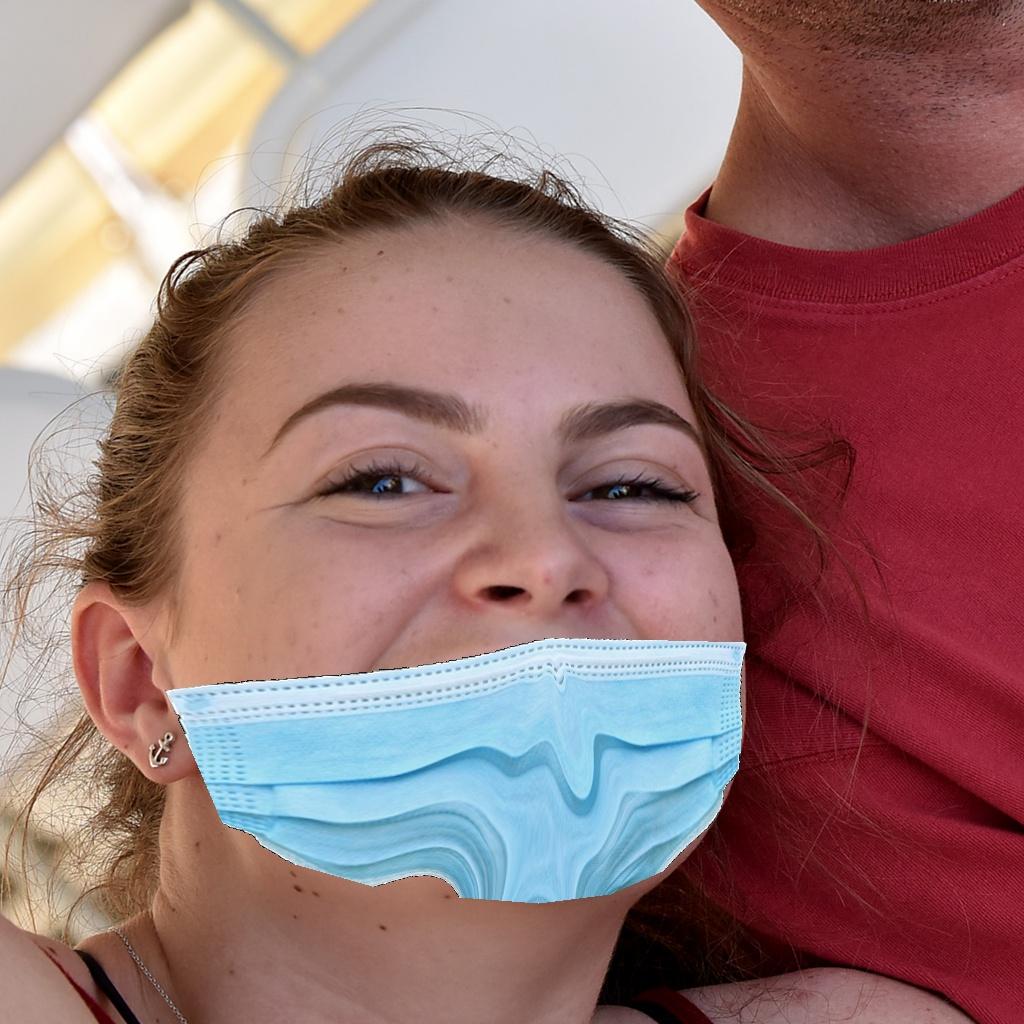mask_weared_incorrect: (206, 381, 745, 898)
